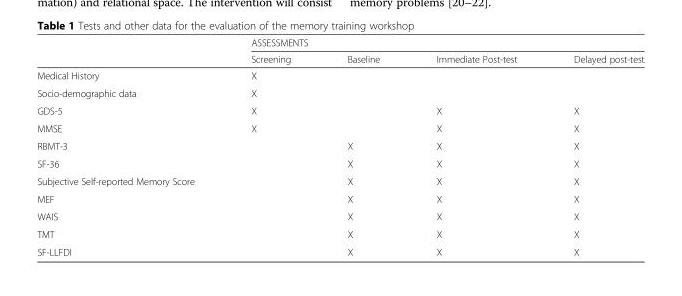table: (36, 36, 643, 257)
table column: (36, 36, 222, 257), (407, 36, 544, 257), (544, 36, 643, 257), (222, 36, 318, 257), (318, 36, 407, 257)
table column header: (36, 36, 643, 66)
table row: (36, 66, 643, 84), (36, 101, 643, 119), (36, 136, 643, 154), (36, 154, 643, 172), (36, 189, 643, 207), (36, 207, 643, 225), (36, 84, 643, 101), (36, 119, 643, 136), (36, 172, 643, 189), (36, 225, 643, 242), (36, 50, 643, 66), (36, 242, 643, 257), (36, 36, 643, 50)
table spanning cell: (222, 36, 643, 50)
